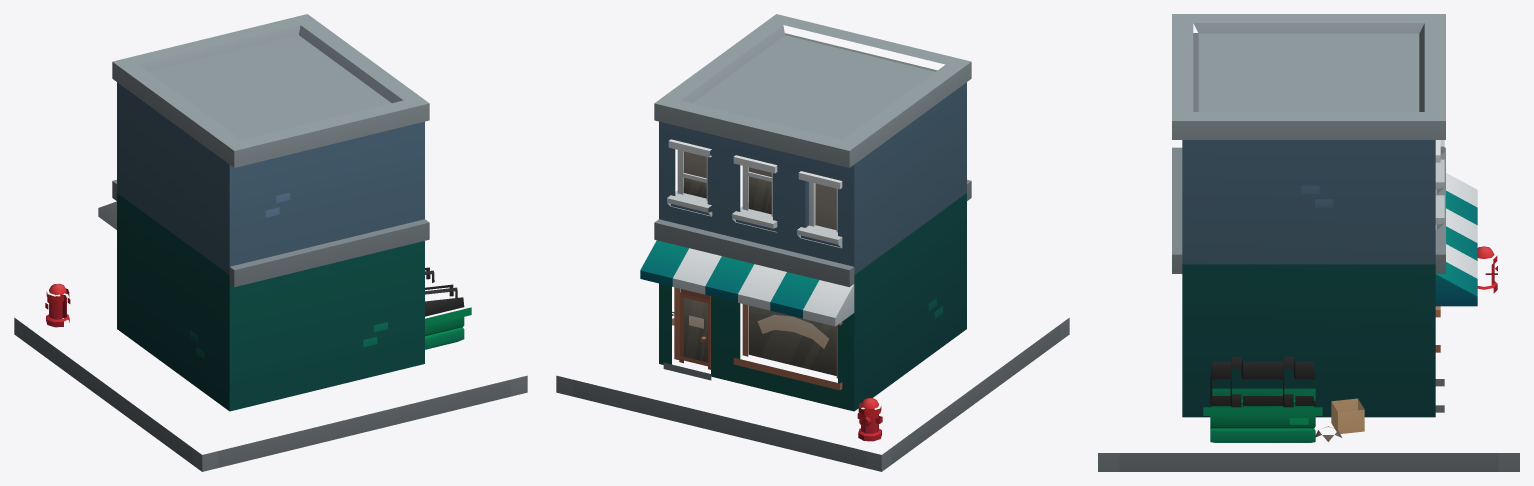
Rendered from building_a.002_lev1.glb.
3 renders of one model, left to right at view 1: azimuth 30°, elevation 25°; view 2: azimuth 150°, elevation 25°; view 3: azimuth 270°, elevation 25°, orthographic. The views are drawn at different scales.
Visible parts, largest first — view 1: building_a.002_lev1; view 2: building_a.002_lev1; view 3: building_a.002_lev1.
Boxes of the visible parts, x1,y1,x2,y2 form: building_a.002_lev1: (14,14,527,471); building_a.002_lev1: (556,14,1069,471); building_a.002_lev1: (1098,14,1519,471).
Bounding box in the file's own units: 7.36 × 6.07 × 7.36.
Materials: 1 (1 with a texture image).
